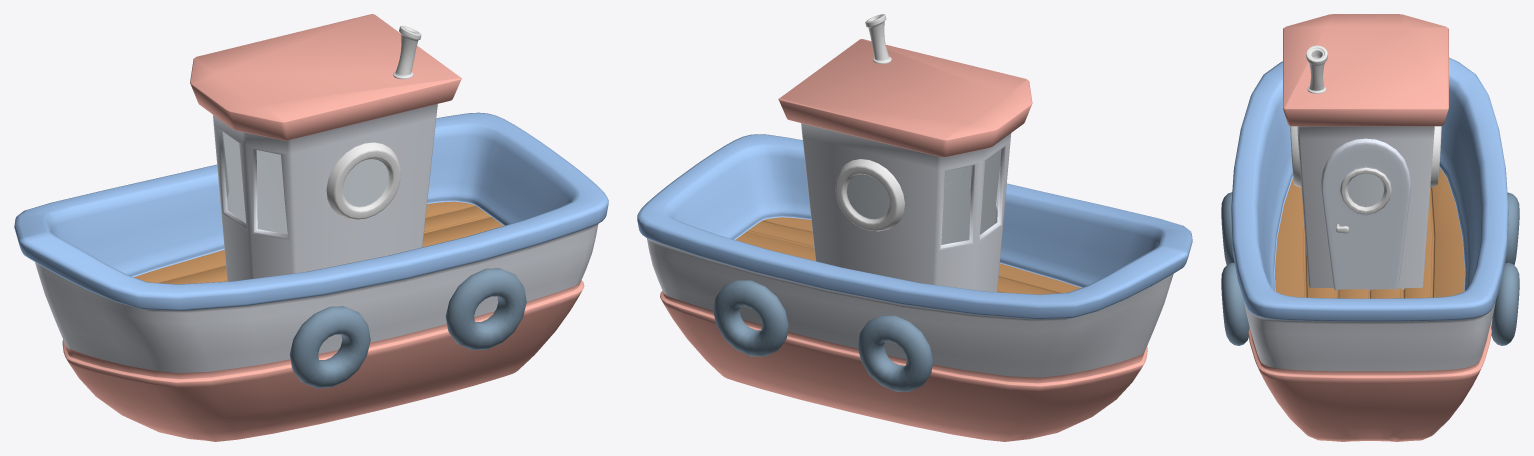
The model's file is boat.glb.
3 views of the same model, side by side, from view 1: azimuth 30°, elevation 25°; view 2: azimuth 150°, elevation 25°; view 3: azimuth 270°, elevation 25° (orthographic). The views are drawn at different scales.
Parts seen in each view (by area): view 1: boat_body, boat_rubber, boat_glass, boat_wood, boat_metal; view 2: boat_body, boat_rubber, boat_glass, boat_wood, boat_metal; view 3: boat_body, boat_wood, boat_rubber, boat_metal, boat_glass.
Part boxes in pixels (left/top/right/bottom): boat_body: left=14, top=14, right=608, bottom=441; boat_rubber: left=289, top=268, right=526, bottom=388; boat_glass: left=222, top=131, right=388, bottom=233; boat_wood: left=134, top=201, right=503, bottom=284; boat_metal: left=260, top=26, right=421, bottom=219; boat_body: left=637, top=39, right=1192, bottom=441; boat_rubber: left=713, top=280, right=933, bottom=391; boat_glass: left=847, top=150, right=1000, bottom=244; boat_wood: left=735, top=217, right=1080, bottom=294; boat_metal: left=835, top=14, right=967, bottom=231; boat_body: left=1231, top=14, right=1508, bottom=441; boat_wood: left=1274, top=167, right=1464, bottom=298; boat_rubber: left=1221, top=192, right=1519, bottom=345; boat_metal: left=1290, top=45, right=1441, bottom=233; boat_glass: left=1347, top=173, right=1384, bottom=207.
Size of the model in its own units: 25.16 by 16.62 by 12.98.
Materials: 5 (1 with a texture image).
